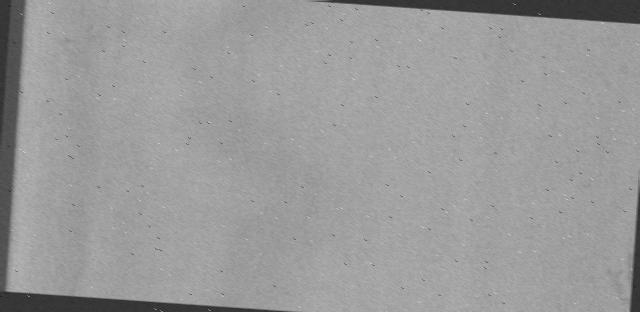silk_spot: (428, 46, 601, 284)
water_spot: (583, 223, 636, 312)
